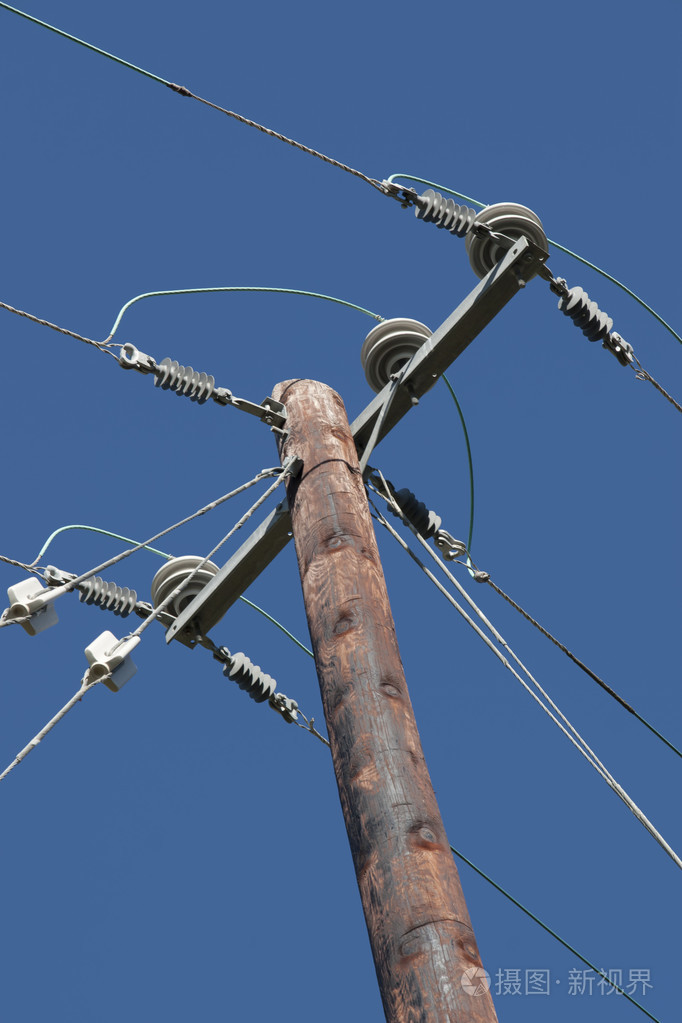insulator: (560, 279, 612, 343), (151, 354, 214, 403), (392, 485, 447, 541), (412, 189, 477, 236), (80, 576, 138, 624), (223, 653, 275, 704)
